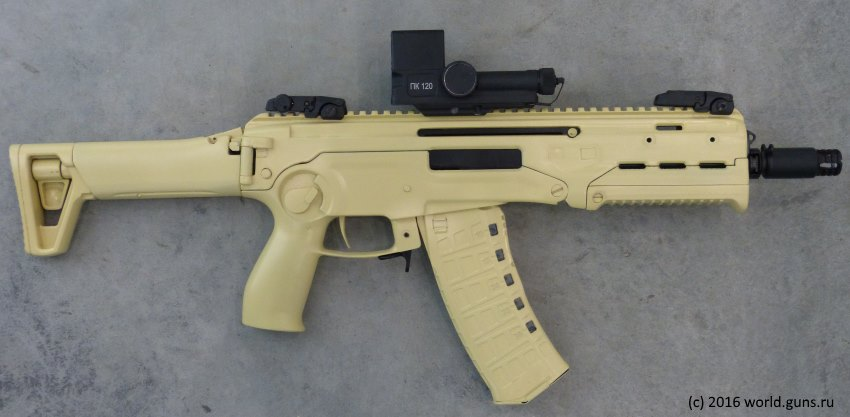Rifle: (8, 25, 843, 411)
